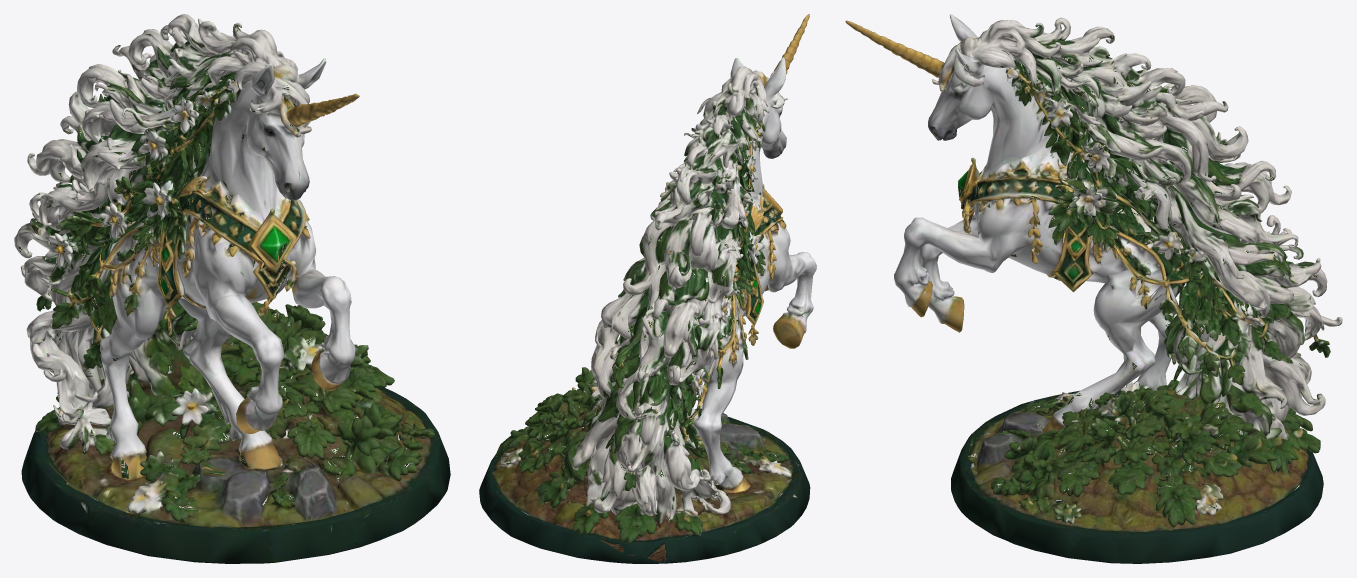
The model's file is unicornKing.glb.
3 views of the same model, side by side, from view 1: azimuth 30°, elevation 25°; view 2: azimuth 150°, elevation 25°; view 3: azimuth 270°, elevation 25° (orthographic). The views are drawn at different scales.
Bounding box in the file's own units: 1.43 × 1.88 × 1.9.
1 material, 1 textured.
